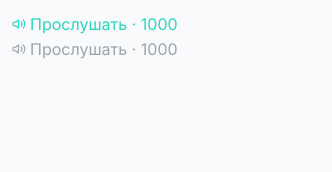
Test: плеер ответа › поздний ответ бэка по брошенному ответу не включает его звук
Later steps or results of the test are not shown.
Click the 1st button "Прослушать · 1000" at {"x": 95, "y": 24}, box left=12, top=12, right=178, bottom=36
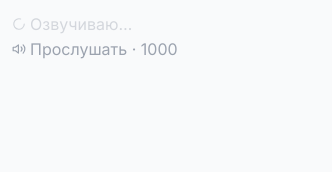
Click the button "Прослушать · 1000" at {"x": 95, "y": 49}, box left=12, top=37, right=178, bottom=61
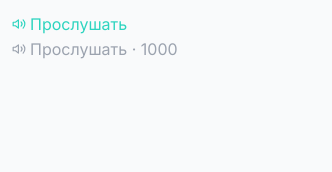
Expected: the button "Прослушать" is shown, left=12, top=12, right=127, bottom=36
